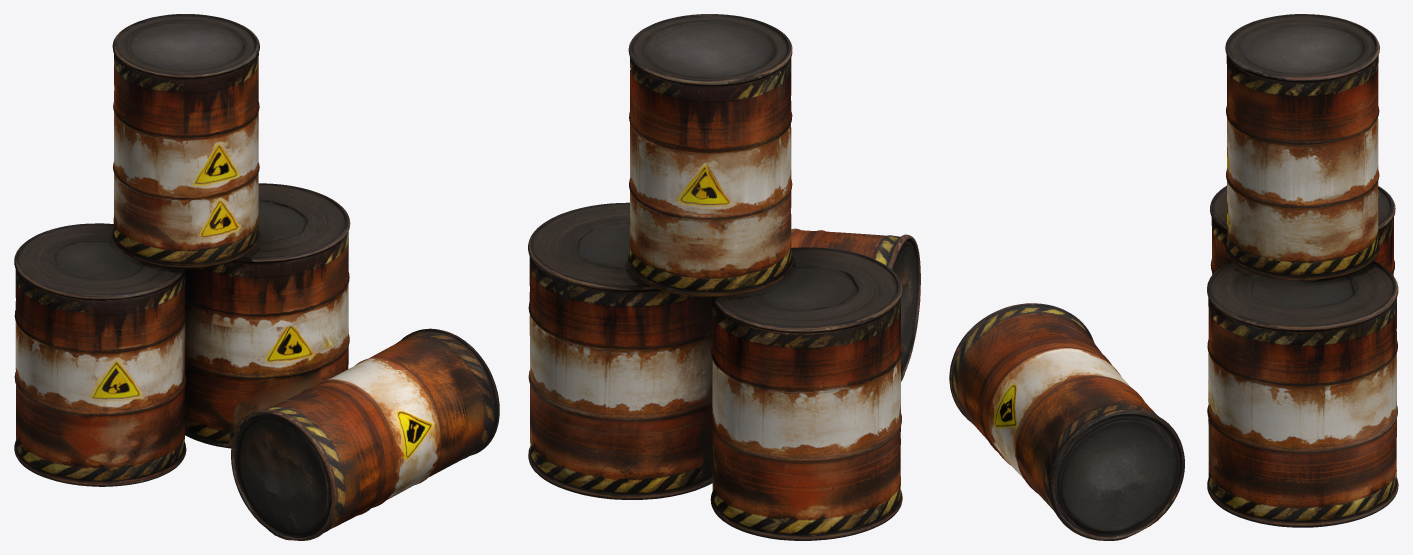
Rendered from barril.glb.
The picture shows the model from 3 angles, left to right: view 1: azimuth 30°, elevation 25°; view 2: azimuth 150°, elevation 25°; view 3: azimuth 270°, elevation 25°; orthographic projection. The views are drawn at different scales.
Parts seen in each view (by area): view 1: material; view 2: material; view 3: material.
Boxes of the visible parts, <box> form: material: <box>14,14,499,540</box>; material: <box>528,14,920,540</box>; material: <box>949,14,1398,540</box>.
Size of the model in its own units: 0.7398 by 0.7732 by 0.7726.
1 material, 1 textured.
